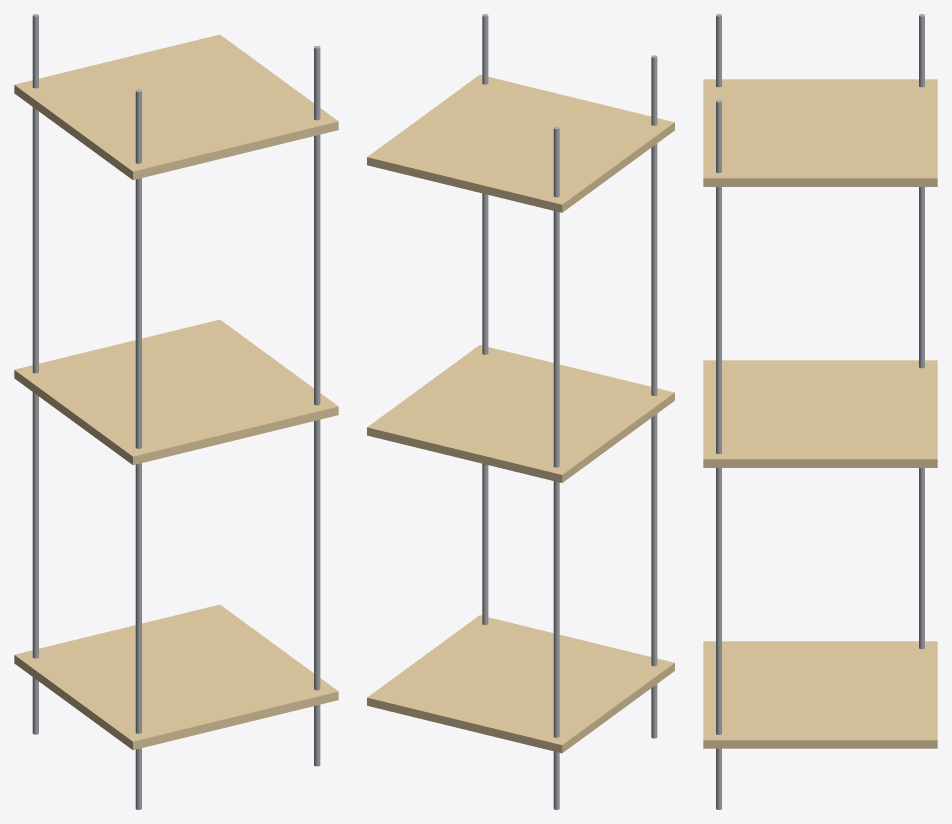
The picture shows the model from 3 angles, left to right: view 1: azimuth 30°, elevation 25°; view 2: azimuth 150°, elevation 25°; view 3: azimuth 270°, elevation 25°; orthographic projection. The views are drawn at different scales.
Parts seen in each view (by area): view 1: shelf_3, shelf_1, shelf_2, rod_2, rod_1, rod_3; view 2: shelf_3, shelf_1, shelf_2, rod_3, rod_1, rod_2; view 3: shelf_3, shelf_1, shelf_2, rod_2, rod_3, rod_1.
Part boxes in pixels (box(x1,y1,x2,y2)): shelf_3: box(14, 34, 338, 179); shelf_1: box(14, 604, 338, 750); shelf_2: box(14, 319, 338, 465); rod_2: box(314, 46, 320, 766); rod_1: box(135, 89, 141, 809); rod_3: box(32, 14, 38, 734); shelf_3: box(367, 75, 674, 212); shelf_1: box(367, 615, 674, 753); shelf_2: box(367, 345, 674, 482); rod_3: box(553, 126, 559, 809); rod_1: box(651, 55, 657, 738); rod_2: box(482, 14, 488, 624); shelf_3: box(703, 79, 937, 186); shelf_1: box(703, 641, 937, 748); shelf_2: box(703, 360, 937, 467); rod_2: box(716, 99, 721, 809); rod_3: box(919, 14, 924, 649); rod_1: box(716, 14, 721, 87).
Size of the model in its own units: 300 by 1000 by 300.
